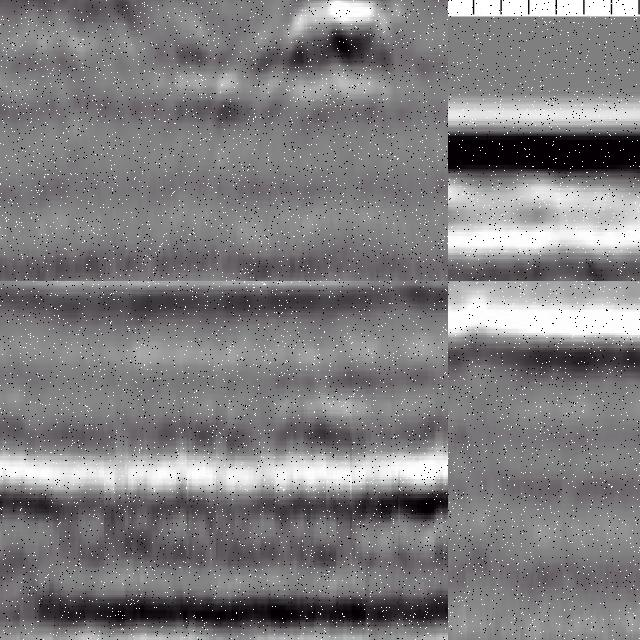loose: (243, 1, 401, 101)
